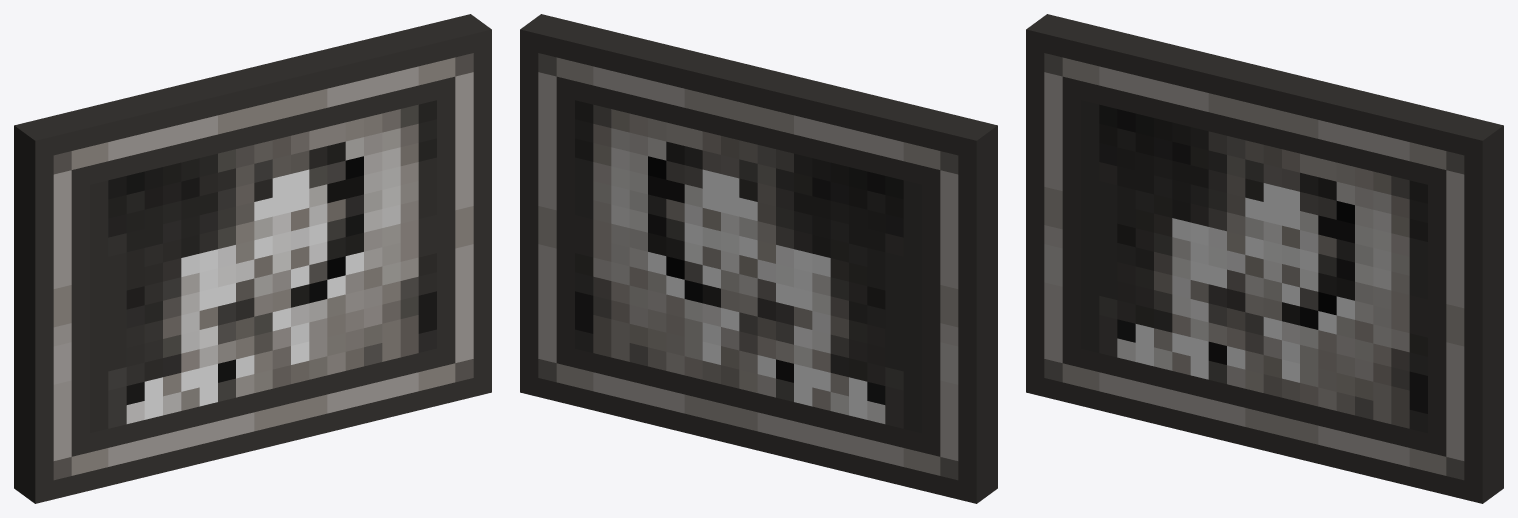
Rendered from picture.glb.
3 renders of one model, left to right at view 1: azimuth 30°, elevation 25°; view 2: azimuth 150°, elevation 25°; view 3: azimuth 330°, elevation 25°, orthographic.
Visible parts, largest first — view 1: picture; view 2: picture; view 3: picture.
Boxes of the visible parts, x1,y1,x2,y2 form: picture: [14, 14, 491, 503]; picture: [520, 14, 997, 503]; picture: [1026, 14, 1503, 503].
Size of the model in its own units: 0.7812 by 0.5938 by 0.0625.
Materials: 2 (2 with a texture image).
